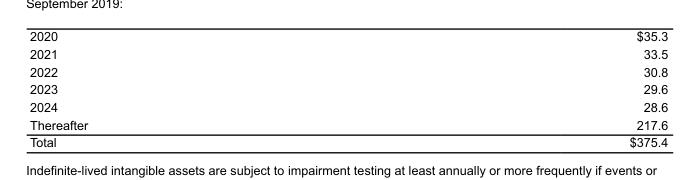table: (28, 28, 667, 149)
table column: (28, 28, 357, 149), (357, 28, 667, 149)
table row: (28, 44, 667, 62), (28, 62, 667, 80), (28, 97, 667, 115), (28, 115, 667, 133), (28, 80, 667, 97), (28, 28, 667, 44), (28, 133, 667, 149)
